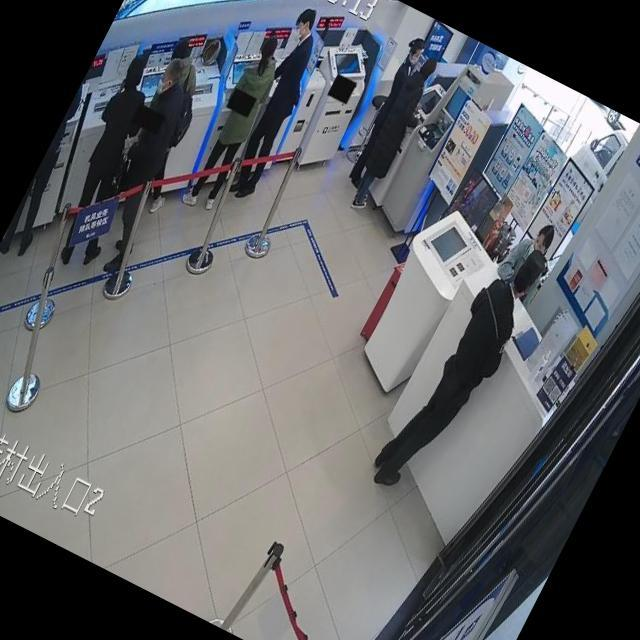person: (366, 230, 554, 508), (32, 44, 192, 276), (212, 2, 342, 204), (98, 39, 231, 225), (176, 31, 295, 218), (0, 67, 114, 262), (0, 82, 106, 264), (342, 51, 451, 220), (340, 37, 430, 191), (492, 213, 562, 299)
